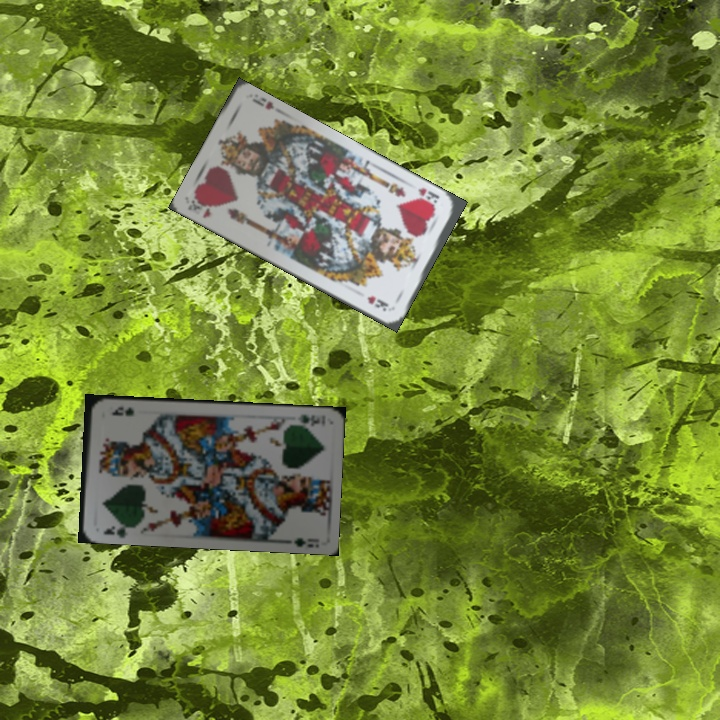GK: (99, 520, 130, 540), (294, 411, 322, 428)
HK: (185, 195, 214, 221), (414, 184, 442, 206)
